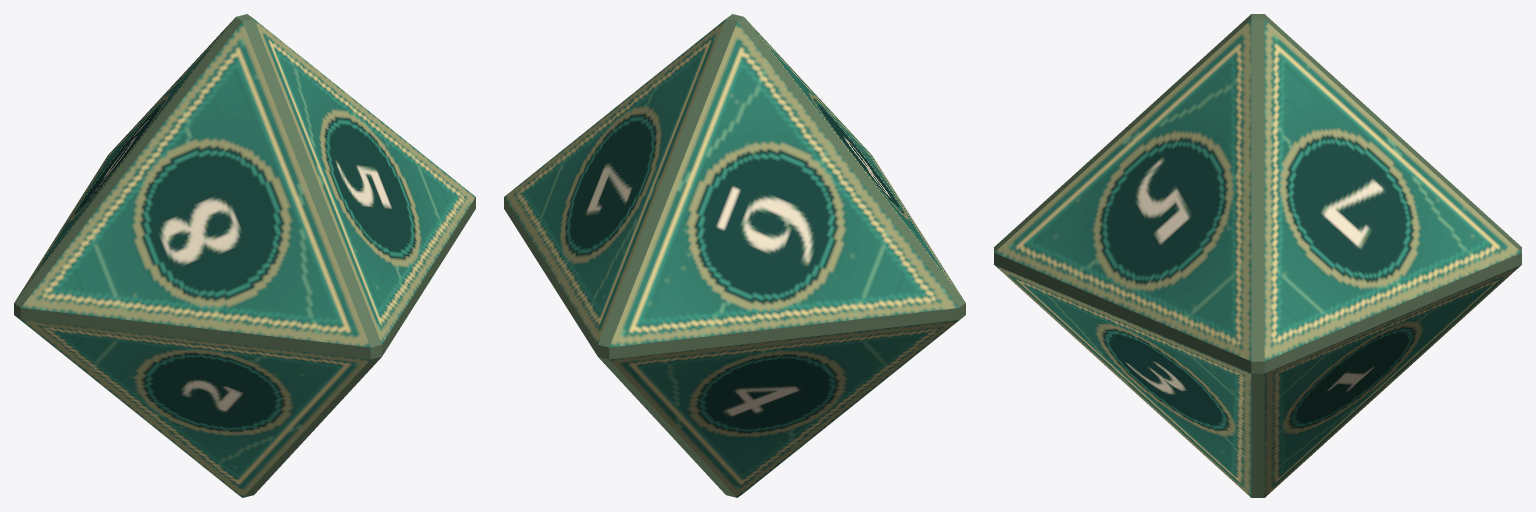
The picture shows the model from 3 angles, left to right: view 1: azimuth 30°, elevation 25°; view 2: azimuth 150°, elevation 25°; view 3: azimuth 270°, elevation 25°; orthographic projection.
Size of the model in its own units: 198 by 198 by 198.
1 material, 1 textured.
